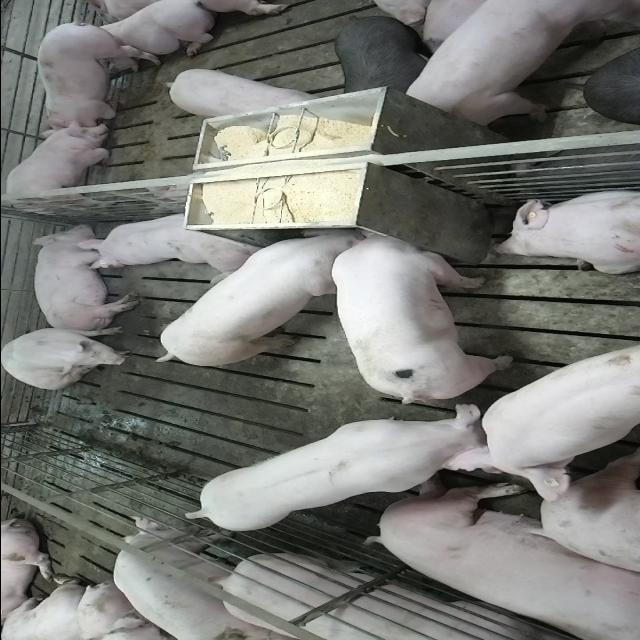Feeding: (330, 222, 516, 396), (146, 229, 364, 371)
Lateral_lying: (366, 478, 640, 636), (27, 223, 140, 333)
Sitting: (2, 325, 138, 389)
Standing: (183, 400, 510, 533), (214, 552, 600, 640), (397, 1, 635, 124), (472, 347, 640, 503), (107, 522, 272, 640), (32, 22, 162, 132), (1, 124, 130, 214), (161, 65, 322, 119), (332, 15, 429, 96)
Sternal_lying: (488, 187, 640, 275), (75, 209, 259, 277), (80, 1, 212, 59)
